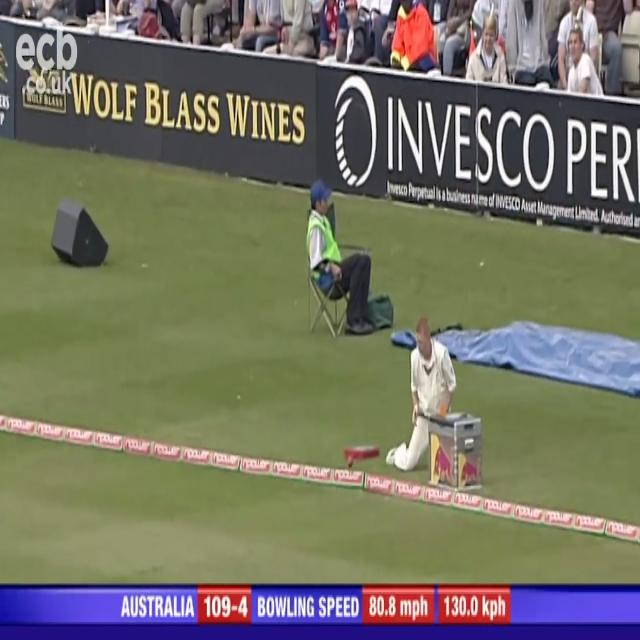ball: (346, 456, 355, 469)
